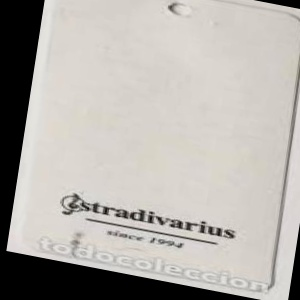stradivarius: (221, 77, 276, 297)
